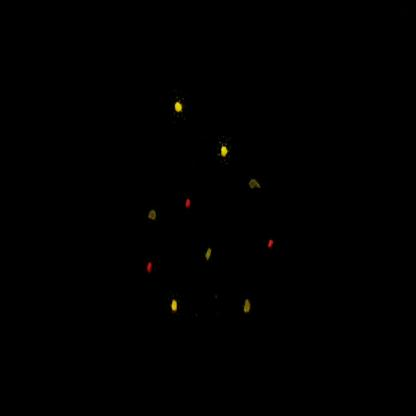PE: (170, 86, 189, 129), (216, 136, 236, 171), (165, 290, 183, 327)
PET: (144, 255, 158, 288), (266, 233, 280, 262), (183, 192, 196, 219)
PP: (246, 169, 266, 201), (240, 290, 258, 325), (200, 238, 218, 269), (143, 201, 161, 228)
